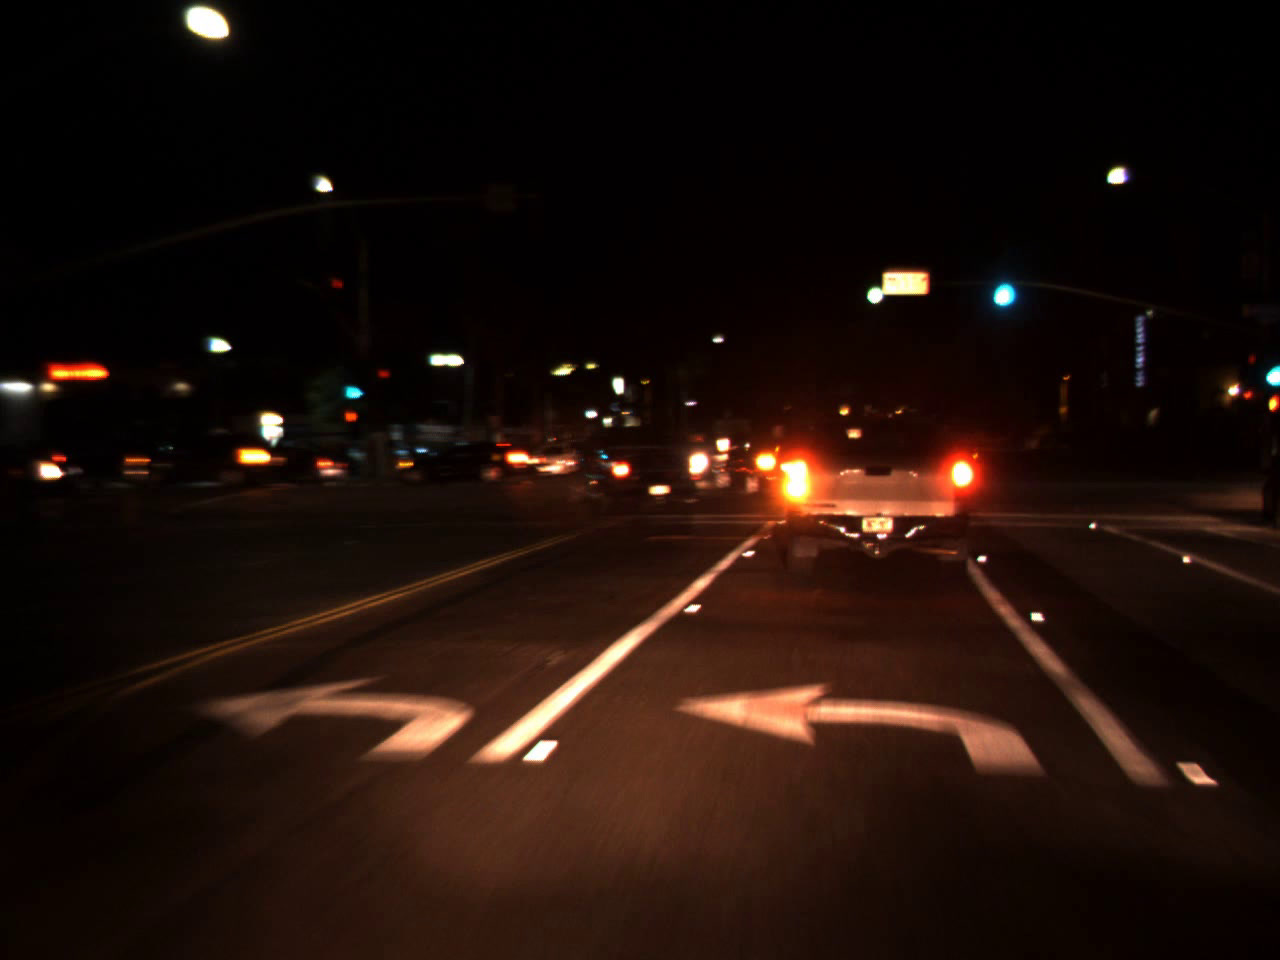go: (984, 255, 1020, 315), (860, 268, 887, 310), (339, 373, 366, 403)
